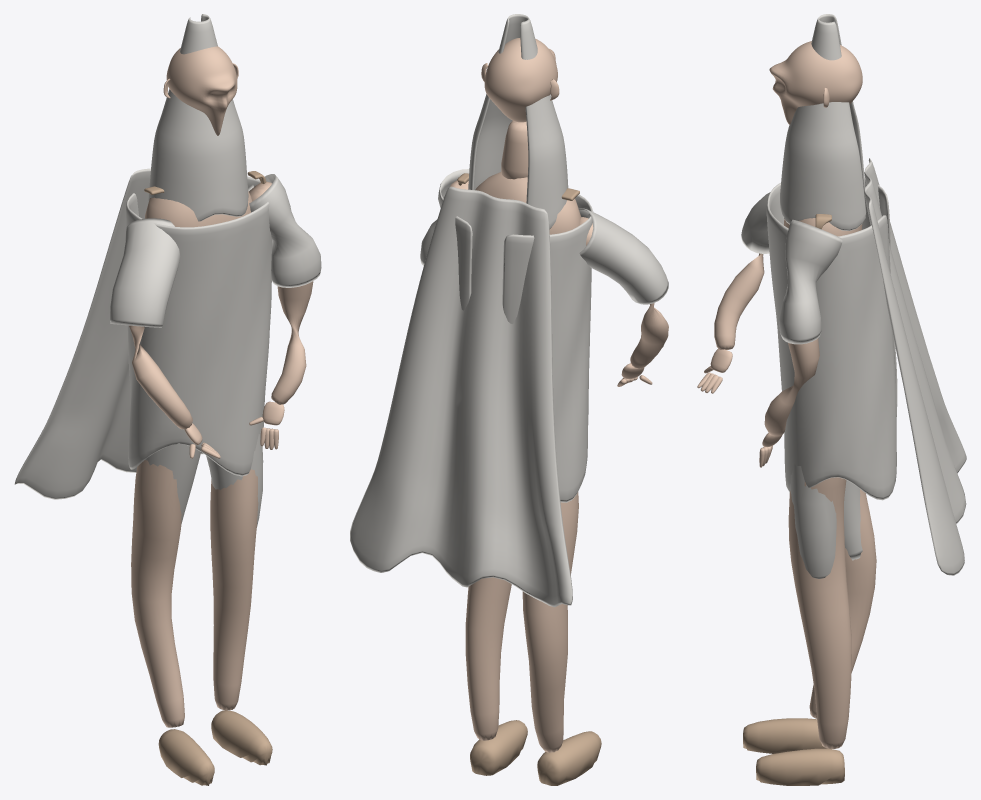
The model's file is observatory_skirmisher.glb.
3 views of the same model, side by side, from view 1: azimuth 30°, elevation 25°; view 2: azimuth 150°, elevation 25°; view 3: azimuth 270°, elevation 25° (orthographic). The views are drawn at different scales.
Visible parts, largest first — view 1: Robe, Cape, Hood, LegR, LegL, SleeveR, SleeveL, Head, ArmL, ArmR, BootL, BootR (+3 smaller); view 2: Cape, Robe, Hood, LegR, LegL, SleeveR, Head, BootR, BootL, Body, ArmR, Neck (+1 smaller); view 3: Robe, Cape, Hood, LegL, SleeveL, Head, BreechL, LegR, BootL, BootR, ArmR, ArmL (+2 smaller).
Part boxes in pixels (x1,y1,x2,y2): Robe: (126, 176, 272, 476); Cape: (14, 168, 203, 499); Hood: (148, 14, 248, 221); LegR: (131, 460, 184, 727); LegL: (210, 469, 258, 710); SleeveR: (110, 218, 180, 327); SleeveL: (248, 174, 321, 287); Head: (166, 46, 237, 135); ArmL: (249, 181, 313, 404); ArmR: (129, 325, 192, 429); BootL: (211, 710, 272, 765); BootR: (158, 729, 214, 785); Cape: (350, 186, 572, 607); Robe: (443, 194, 593, 502); Hood: (468, 14, 568, 229); LegR: (522, 492, 578, 752); LegL: (465, 577, 511, 740); SleeveR: (578, 208, 668, 304); Head: (484, 38, 557, 122); BootR: (537, 731, 601, 785); BootL: (470, 720, 527, 775); Body: (475, 172, 581, 234); ArmR: (580, 217, 668, 368); Neck: (501, 121, 528, 179); Robe: (766, 178, 897, 500); Cape: (864, 158, 966, 575); Hood: (780, 14, 866, 230); LegL: (788, 477, 851, 748); SleeveL: (778, 219, 842, 344); Head: (769, 41, 862, 124); BreechL: (789, 463, 836, 578); LegR: (809, 489, 876, 718); BootL: (756, 748, 844, 785); BootR: (743, 718, 827, 753); ArmR: (714, 253, 764, 349); ArmL: (764, 338, 819, 436).
Bounding box in the file's own units: 0.6312 × 1.94 × 0.6357.
